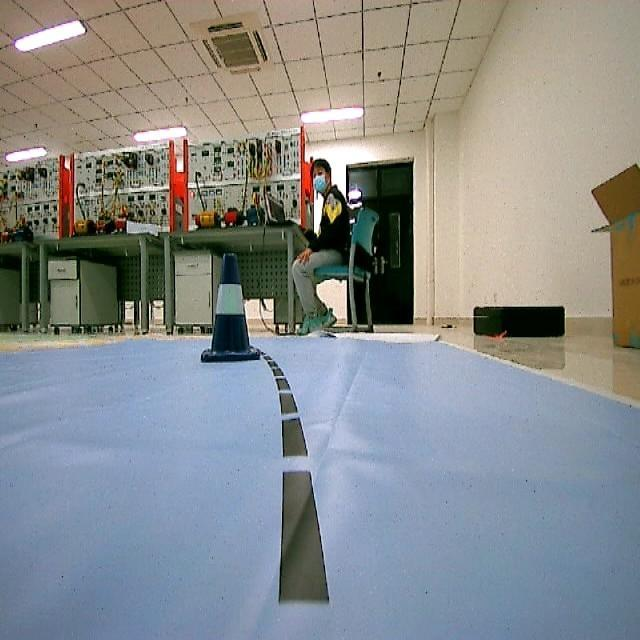obstacle: (200, 247, 258, 367)
